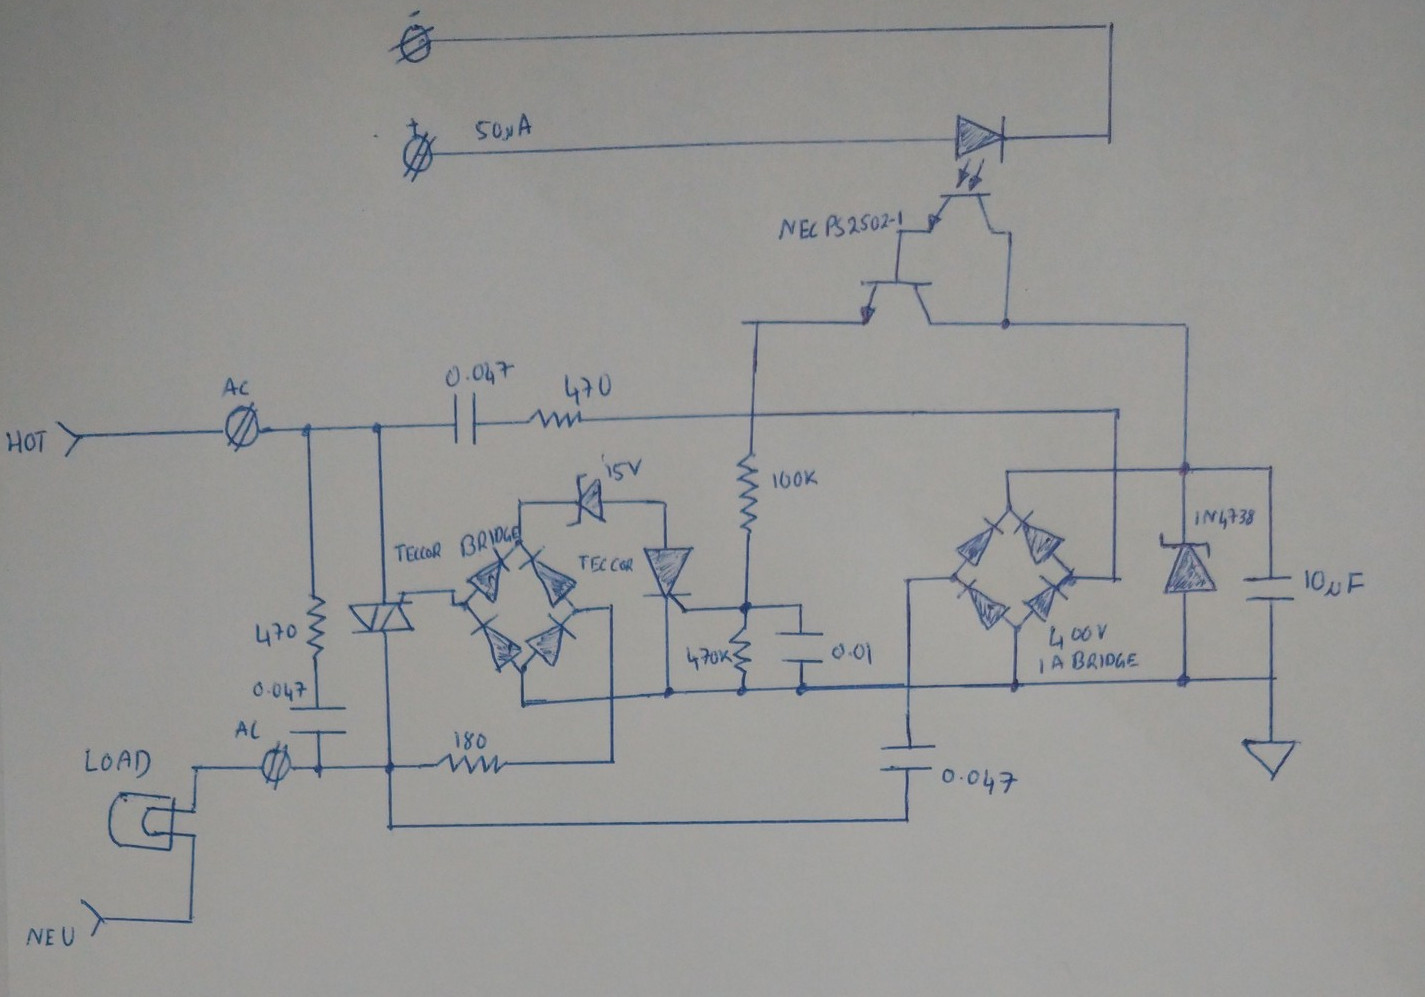capacitor.unpolarized: (774, 626, 826, 669), (1242, 568, 1295, 611), (879, 738, 937, 777), (288, 701, 348, 738), (447, 391, 481, 447)
crossover: (1108, 462, 1122, 477), (903, 680, 915, 695), (606, 692, 620, 703), (746, 409, 758, 421)
diode: (1158, 532, 1220, 595), (519, 546, 577, 606), (470, 614, 522, 670), (1014, 510, 1066, 564), (525, 613, 576, 667), (958, 579, 1010, 630), (466, 549, 511, 603), (565, 473, 607, 528), (956, 517, 1004, 566), (1021, 575, 1068, 622)
gnd: (1240, 736, 1298, 779)
junction: (297, 420, 317, 438), (1177, 315, 1197, 333), (1176, 461, 1194, 478), (1063, 567, 1080, 585), (997, 315, 1014, 332), (369, 419, 385, 436), (892, 225, 908, 242), (1175, 672, 1191, 688), (1008, 677, 1023, 694), (1001, 226, 1018, 241), (737, 601, 754, 616), (794, 681, 809, 697), (1010, 621, 1027, 637), (1102, 17, 1119, 32), (1103, 127, 1117, 144), (312, 761, 327, 776), (383, 759, 398, 774), (662, 686, 676, 700), (1110, 404, 1124, 418), (1263, 462, 1277, 476), (999, 464, 1014, 478), (900, 812, 914, 826), (517, 698, 531, 712), (1264, 672, 1279, 685), (946, 570, 960, 583), (184, 914, 197, 928), (385, 819, 398, 834), (605, 755, 619, 768), (1107, 572, 1122, 583), (736, 684, 749, 697), (750, 317, 763, 330), (517, 663, 530, 675), (659, 497, 672, 510), (460, 596, 472, 611), (901, 575, 916, 586), (1003, 503, 1016, 515), (186, 804, 198, 817), (570, 603, 581, 616), (187, 761, 201, 772), (188, 829, 199, 843), (604, 601, 617, 612), (447, 598, 458, 611), (795, 600, 807, 611), (514, 537, 527, 547), (446, 585, 457, 595), (515, 499, 525, 508)
lamp: (105, 790, 177, 854)
optocoupler: (925, 111, 1006, 236)
resistor: (736, 452, 760, 533), (435, 753, 507, 775), (304, 592, 326, 660), (526, 408, 581, 429), (729, 627, 751, 675)
terminal: (395, 23, 437, 64), (398, 135, 436, 172), (55, 420, 81, 458), (80, 898, 103, 937)
text: (777, 210, 905, 240), (1036, 650, 1141, 675), (940, 768, 1020, 796), (84, 747, 151, 779), (1302, 567, 1367, 600), (459, 525, 520, 557), (445, 359, 517, 386), (474, 111, 534, 141), (563, 372, 614, 406), (1048, 624, 1106, 650), (1194, 507, 1256, 530), (252, 680, 308, 703), (685, 645, 733, 671), (578, 553, 635, 574), (254, 621, 298, 647), (25, 926, 77, 947), (4, 428, 47, 454), (831, 642, 874, 666), (393, 542, 443, 563), (771, 469, 818, 489), (606, 458, 643, 483), (453, 729, 488, 750), (221, 377, 252, 401), (233, 719, 261, 740)
thyristor: (639, 545, 695, 616)
transistor: (855, 276, 937, 329)
triac: (344, 585, 415, 638)
